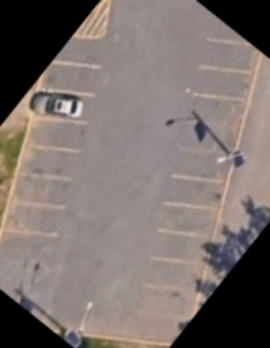parkingspot: (121, 9, 264, 348), (0, 31, 117, 242)
